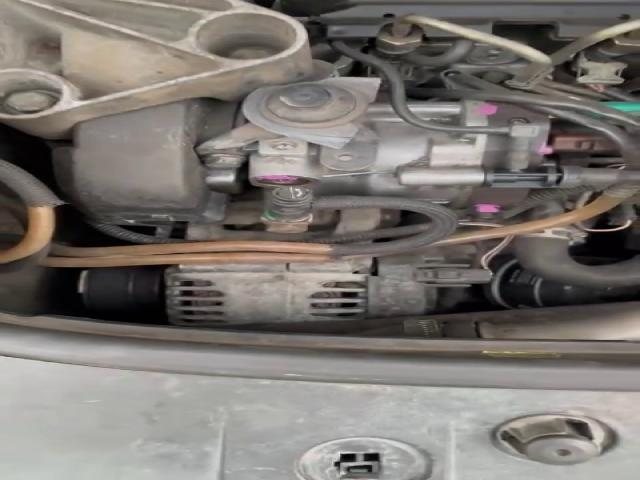alternator: (160, 253, 490, 326)
high_pressure_pump: (243, 96, 564, 221)
